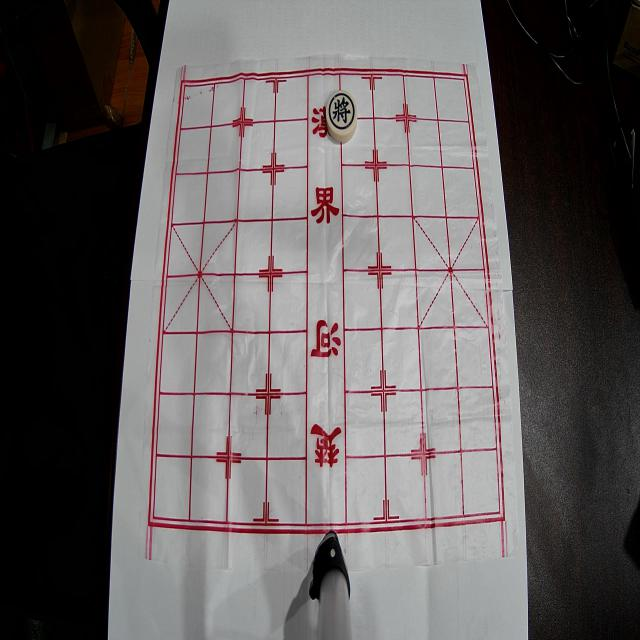black-general: (326, 90, 357, 142)
